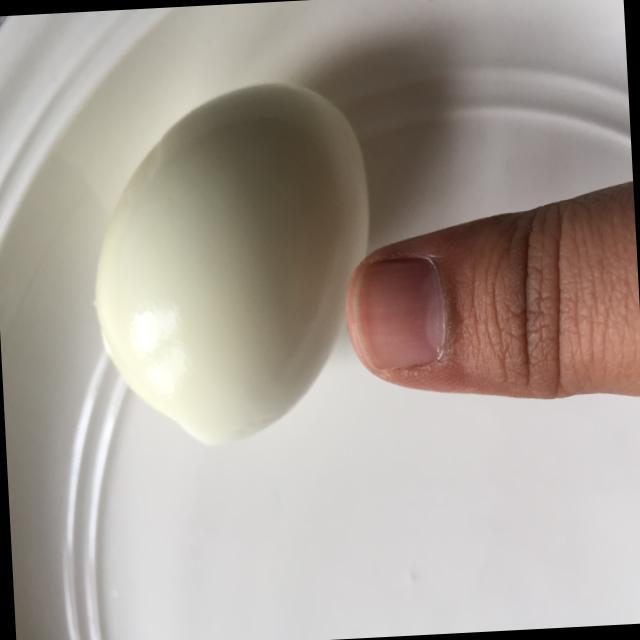Egg: (78, 70, 388, 473)
Finger: (339, 208, 595, 414)
